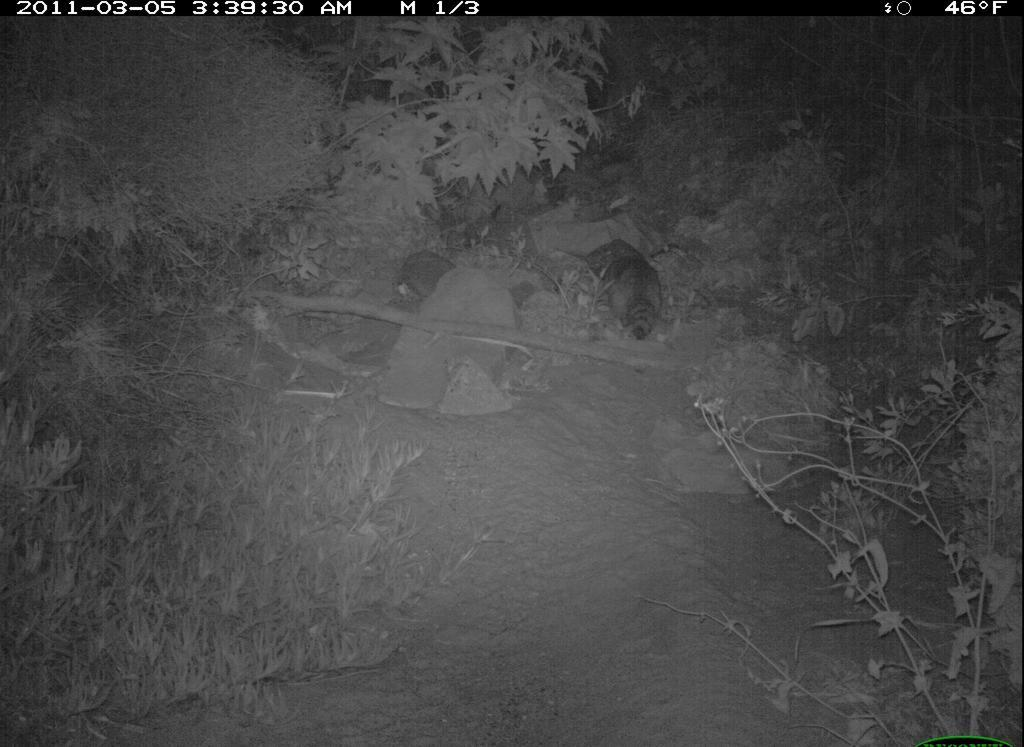raccoon: (588, 232, 671, 340)
